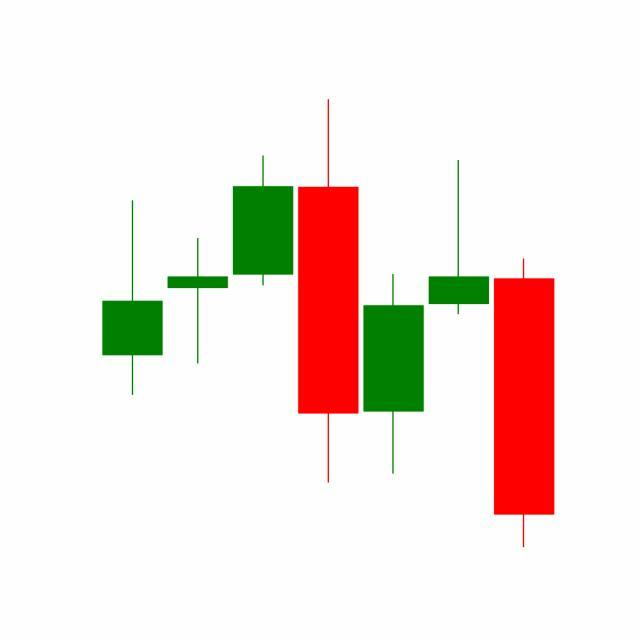Hikkake Pattern: (165, 99, 492, 487)
